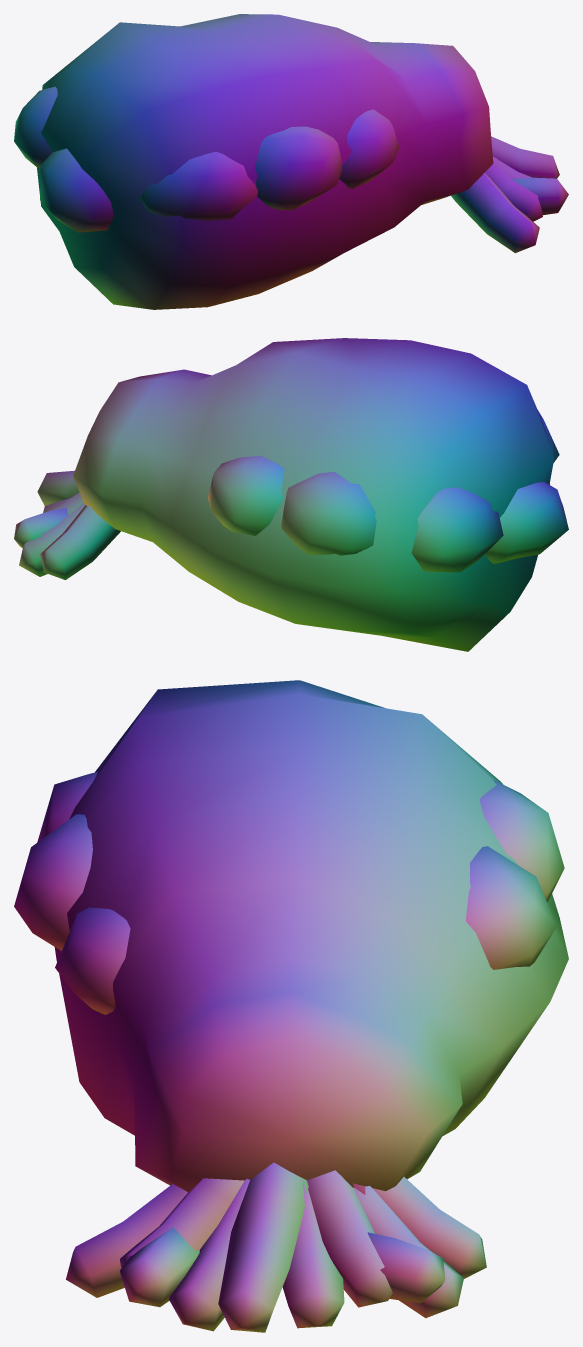
The model's file is SM_Pickup_Quest_Moss.fbx.
3 views of the same model, one above another, from view 1: azimuth 30°, elevation 25°; view 2: azimuth 150°, elevation 25°; view 3: azimuth 270°, elevation 25° (orthographic). The views are drawn at different scales.
Visible parts, largest first — view 1: SM_Pickup_Quest_Moss; view 2: SM_Pickup_Quest_Moss; view 3: SM_Pickup_Quest_Moss.
Part boxes in pixels (x1,y1,x2,y2): SM_Pickup_Quest_Moss: (14,14,568,309); SM_Pickup_Quest_Moss: (14,338,568,651); SM_Pickup_Quest_Moss: (14,680,568,1332).
Size of the model in its own units: 0.3642 by 0.1742 by 0.2194.
